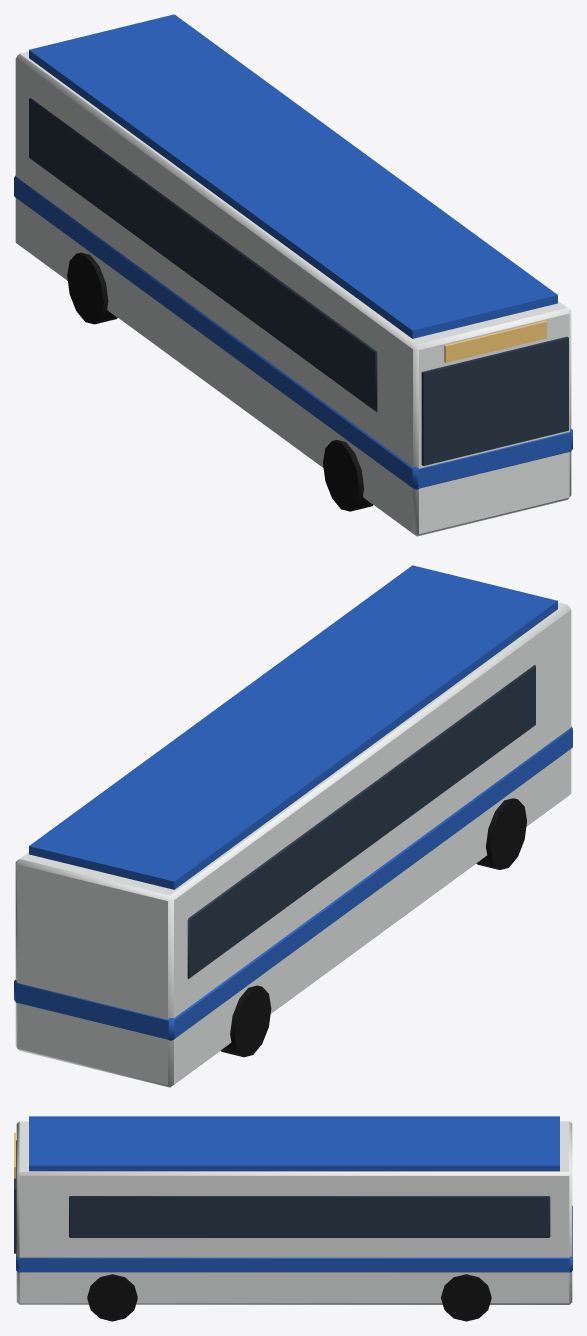
Rendered from bus.fbx.
The picture shows the model from 3 angles, top to bottom: view 1: azimuth 30°, elevation 25°; view 2: azimuth 150°, elevation 25°; view 3: azimuth 270°, elevation 25°; orthographic projection. The views are drawn at different scales.
Visible parts, largest first — view 1: bus; view 2: bus; view 3: bus.
Part boxes in pixels (x1,y1,x2,y2): bus: (14, 14, 572, 536); bus: (14, 565, 572, 1087); bus: (14, 1116, 572, 1321).
Size of the model in its own units: 2.65 by 3.33 by 11.06.
